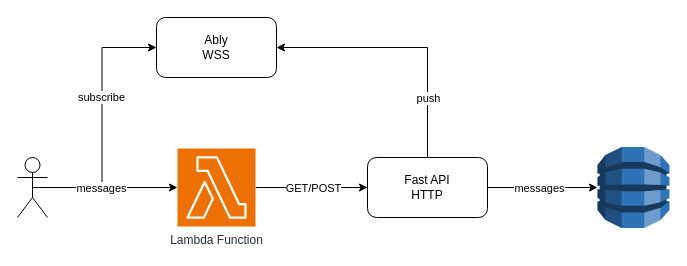
Image size: 687x266. Some labels were removed from this diagram. Each missing label, with the box of its shape:
DynamoDB: (596, 146, 670, 228)
User: (16, 156, 48, 218)
